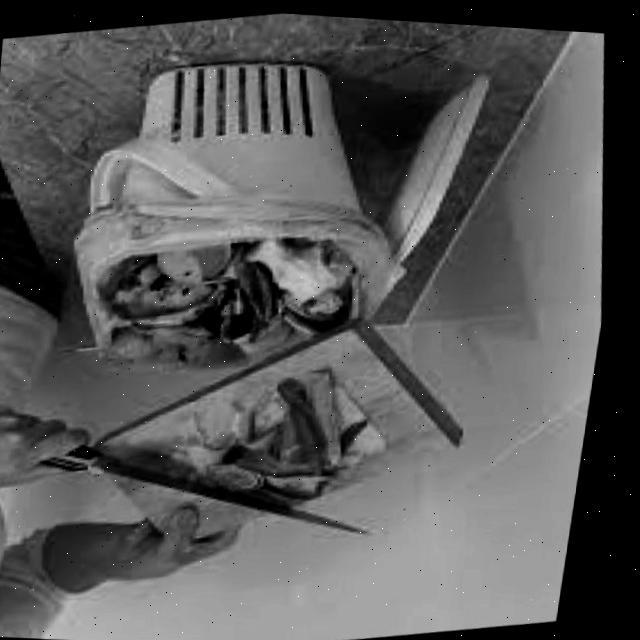Garbage: (143, 367, 397, 502), (117, 235, 366, 368)
